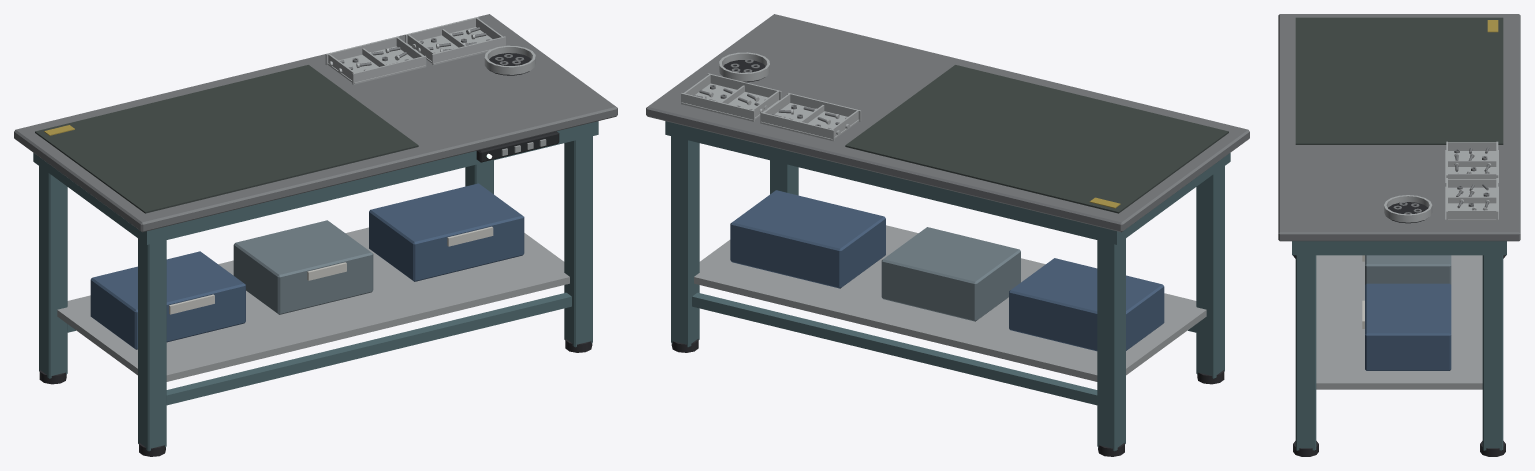
File: astro_rover_parts_table.fbx
The picture shows the model from 3 angles, left to right: view 1: azimuth 30°, elevation 25°; view 2: azimuth 150°, elevation 25°; view 3: azimuth 270°, elevation 25°; orthographic projection. The views are drawn at different scales.
Parts seen in each view (by area): view 1: RoverPartsTable_Body; view 2: RoverPartsTable_Body; view 3: RoverPartsTable_Body.
Part boxes in pixels (<box>): RoverPartsTable_Body: <box>14,14,617,456</box>; RoverPartsTable_Body: <box>646,14,1249,456</box>; RoverPartsTable_Body: <box>1278,14,1520,456</box>.
Bounding box in the file's own units: 300 × 153 × 140.
